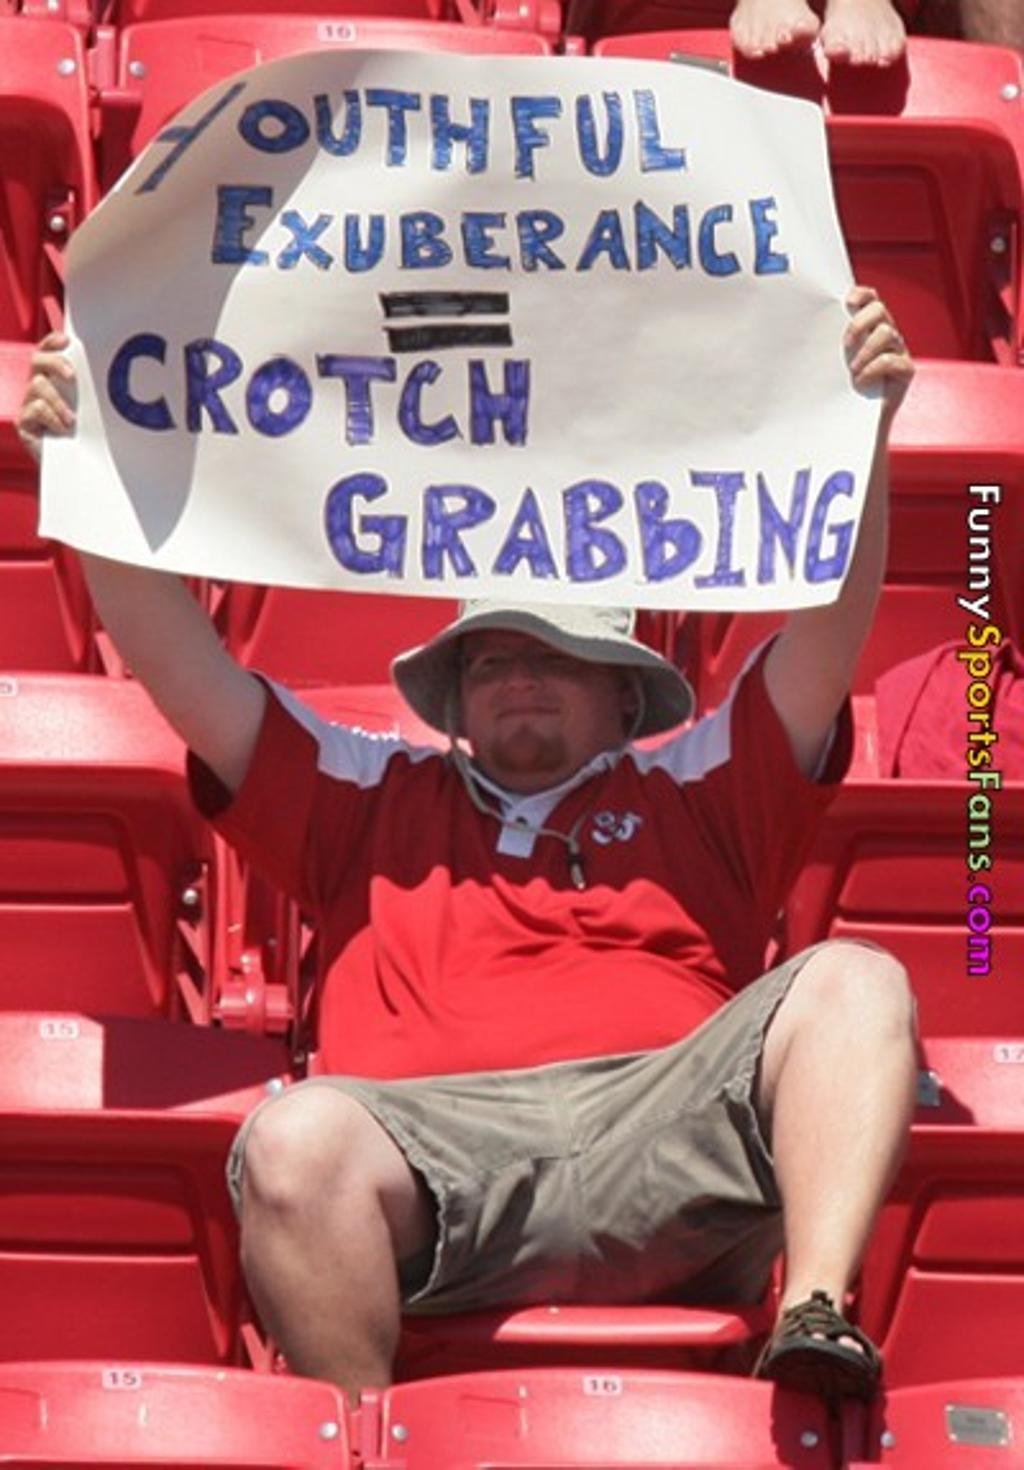face: (462, 597, 611, 786)
